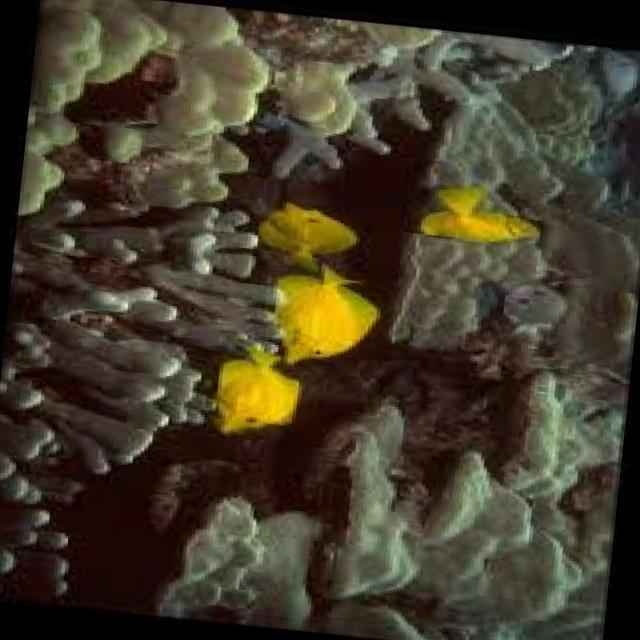YellowTang: (249, 250, 392, 374), (190, 344, 328, 446), (401, 173, 551, 257), (243, 193, 368, 271)
